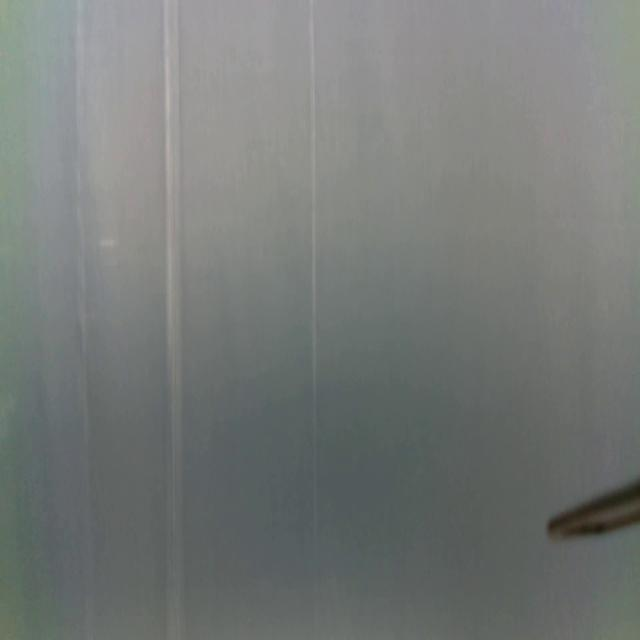crease: (160, 2, 187, 640), (71, 0, 89, 638), (305, 0, 319, 636)
